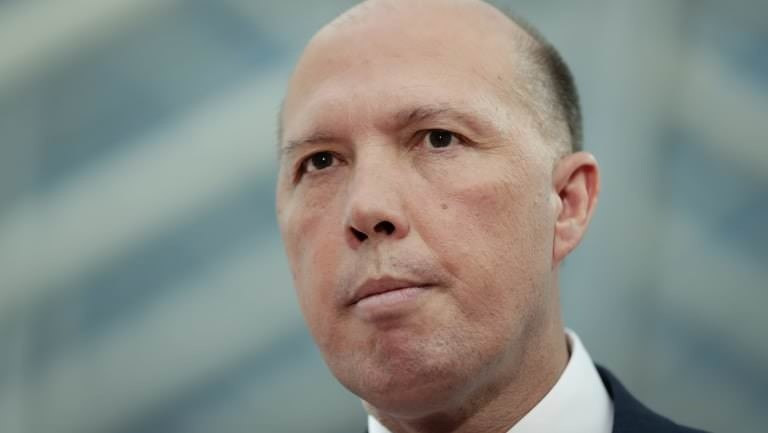face_no_mask: (272, 1, 598, 416)
